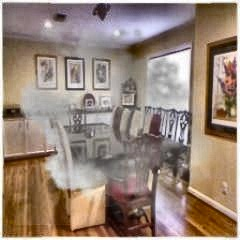smoke: (32, 71, 175, 185)
